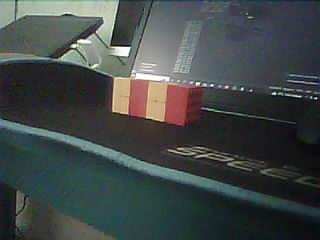lego: (112, 76, 206, 127)
